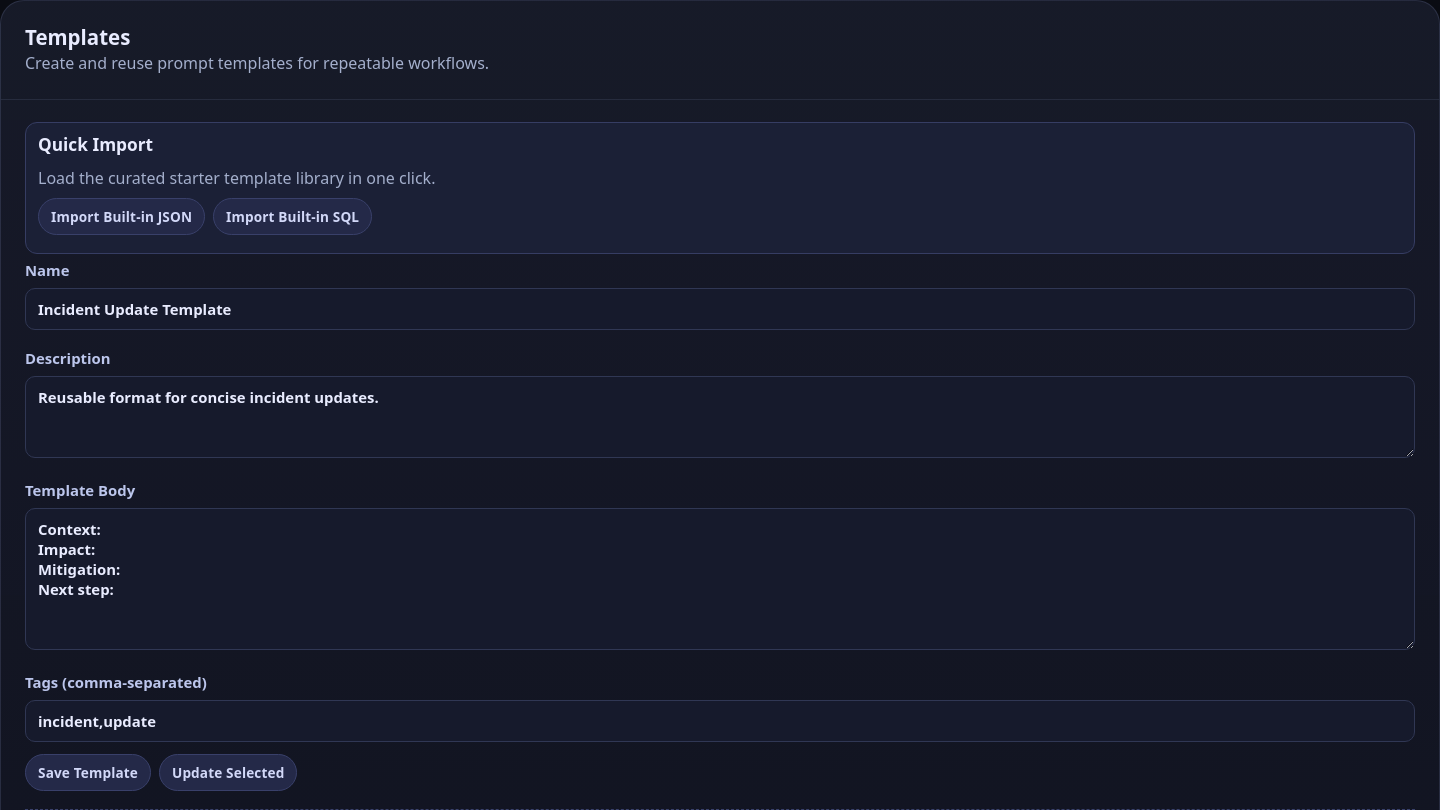
it: knowledge and templates workflow › creates and updates template
The image size is (1440, 810).
Click the button "Save Template" at (88, 772), box [25,754,151,791]
(page scrolled)
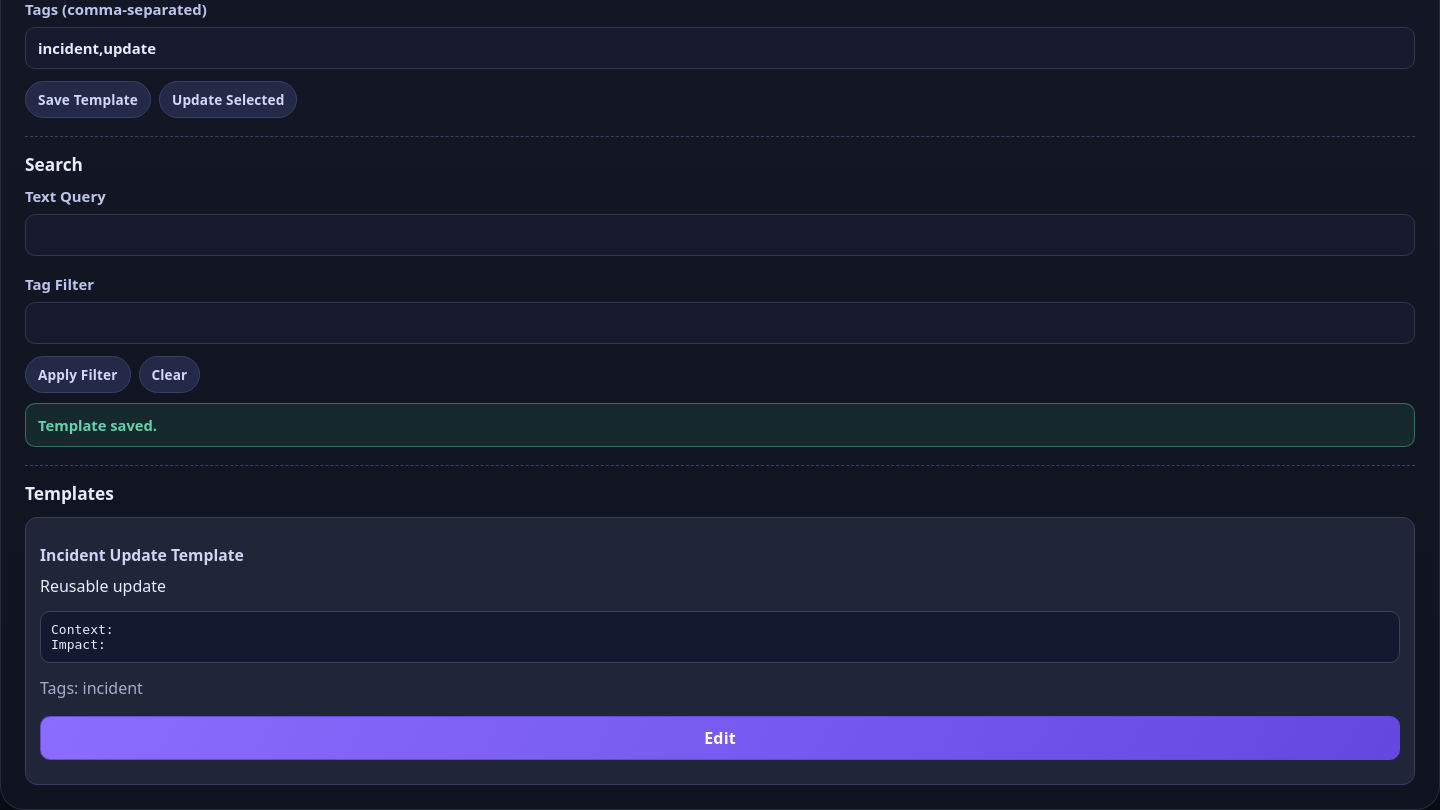
Now the text "Template saved." is shown, box [25,403,1415,447]
Click the button "Edit" at (720, 738), box [40,716,1400,760]
(page scrolled)
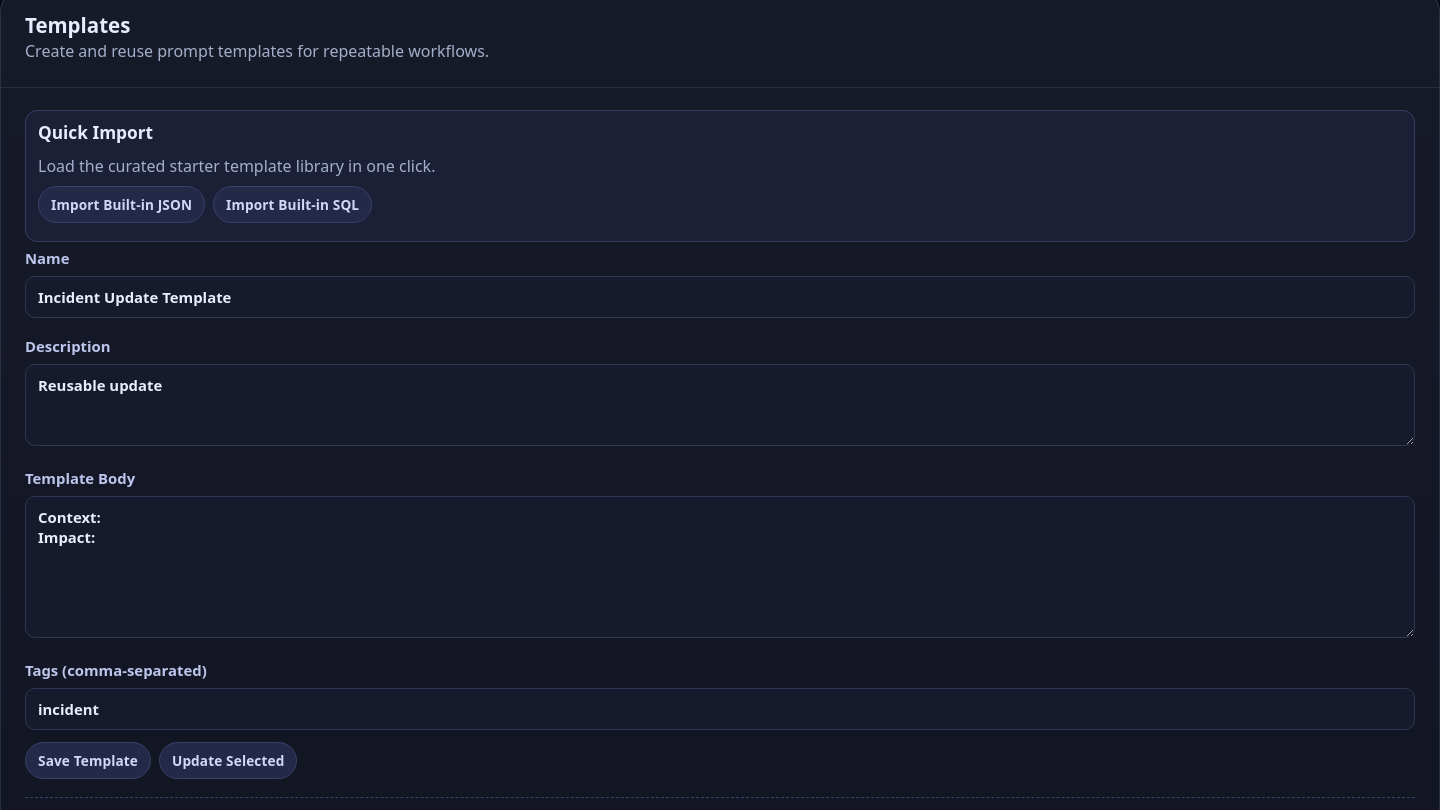
Replace the text in the text box labelled "Description" with "Updated format" at (720, 405), box [25,364,1415,446]
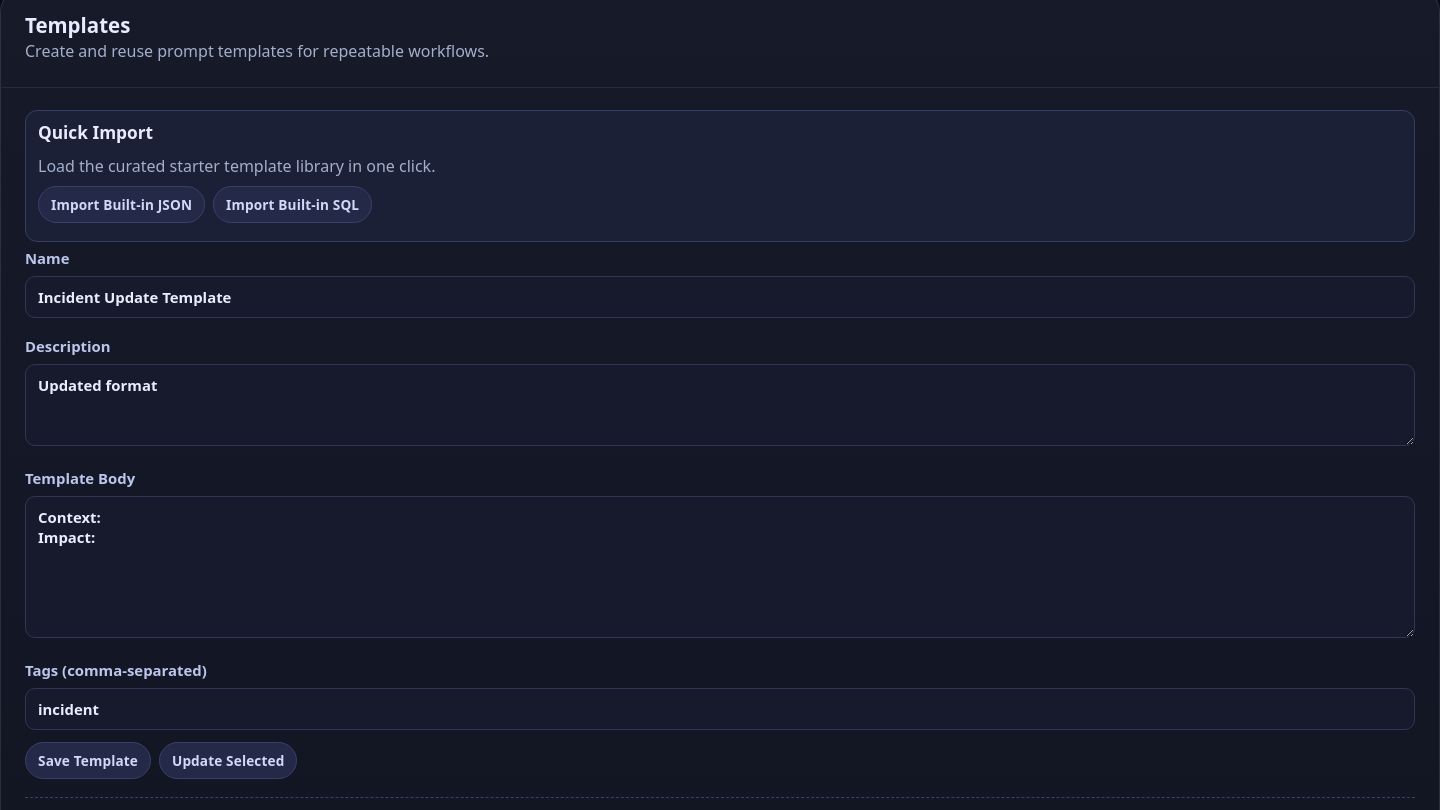
Click the button "Update Selected" at (228, 760), box [159,742,297,779]
(page scrolled)
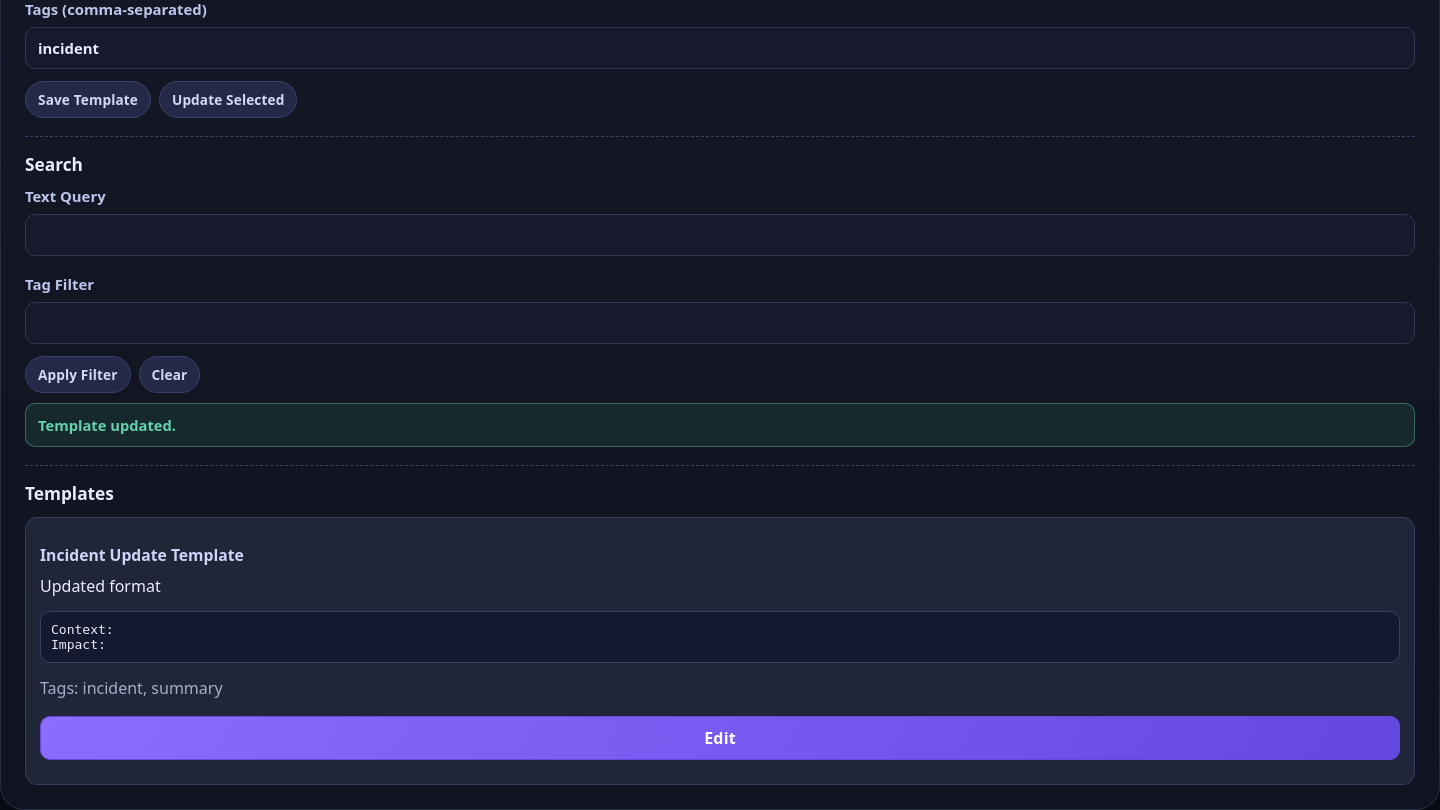
Now the text "Template updated." is shown, box [25,403,1415,447]
